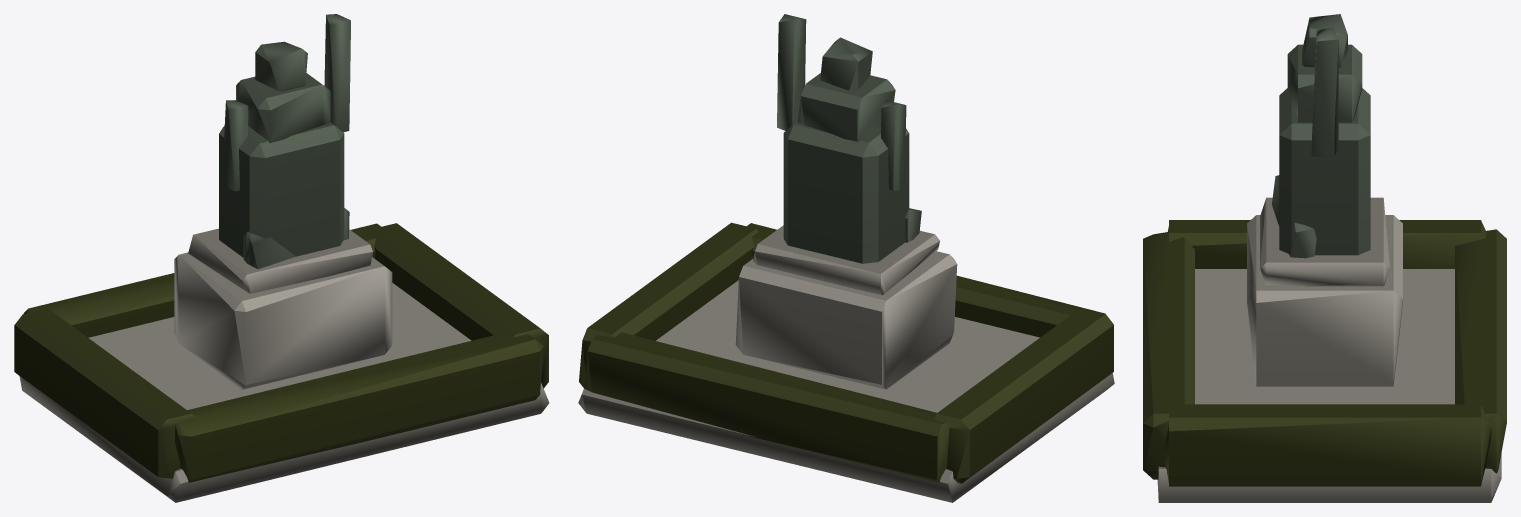
Rendered from statue-v1.lod1.glb.
3 renders of one model, left to right at view 1: azimuth 30°, elevation 25°; view 2: azimuth 150°, elevation 25°; view 3: azimuth 270°, elevation 25°, orthographic. The views are drawn at different scales.
Parts seen in each view (by area): view 1: statue-v1.lod1; view 2: statue-v1.lod1; view 3: statue-v1.lod1.
Part boxes in pixels (bbox=[...]): statue-v1.lod1: bbox=[14, 14, 549, 502]; statue-v1.lod1: bbox=[578, 14, 1114, 502]; statue-v1.lod1: bbox=[1143, 14, 1506, 502].
Size of the model in its own units: 4.7 by 4.29 by 3.5.
